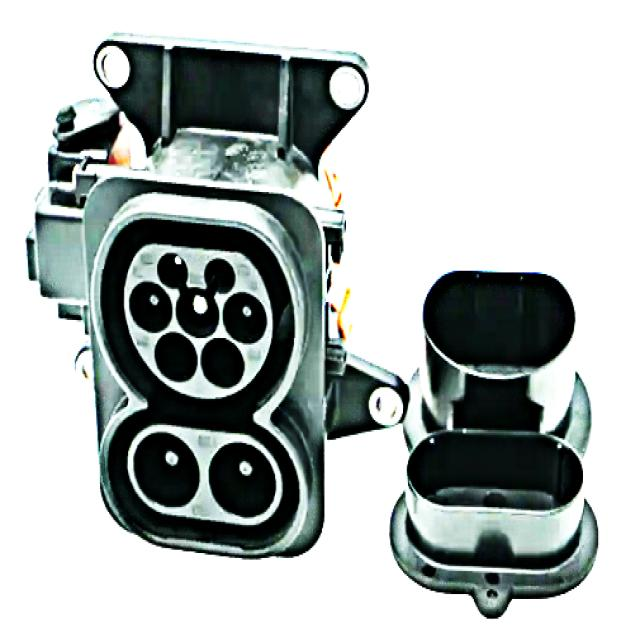inlet: (125, 244, 273, 398)
inlet-above-left: (158, 252, 188, 289)
inlet-above-right: (203, 258, 235, 294)
inlet-below-left: (154, 333, 197, 383)
inlet-below-right: (201, 337, 245, 388)
inlet-circle: (176, 287, 219, 339)
inlet-circle-left: (129, 279, 172, 333)
inlet-circle-right: (222, 292, 267, 345)
inlet-minus: (209, 442, 276, 518)
inlet-plus: (133, 432, 200, 509)
